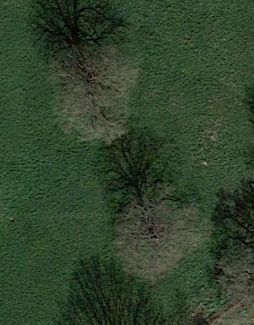tree: (99, 173, 217, 281), (44, 48, 154, 153)
